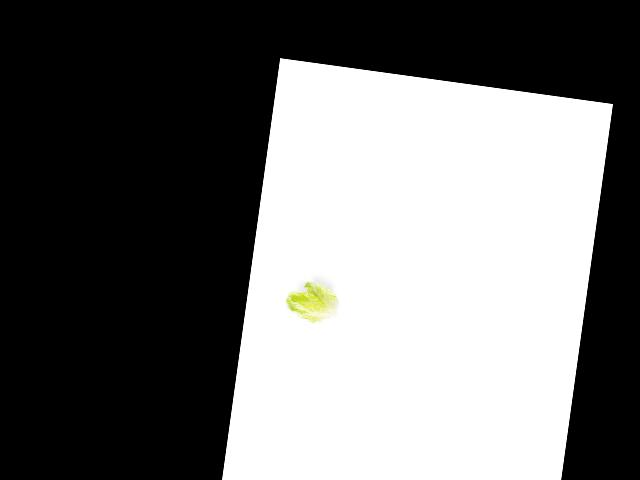lettuce: (280, 277, 346, 328)
